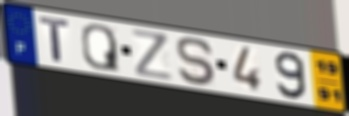4: (231, 46, 264, 94)
9: (273, 51, 308, 101)
Q: (80, 23, 122, 74)
S: (174, 35, 219, 88)
T: (37, 15, 73, 64)
Z: (129, 27, 176, 83)
